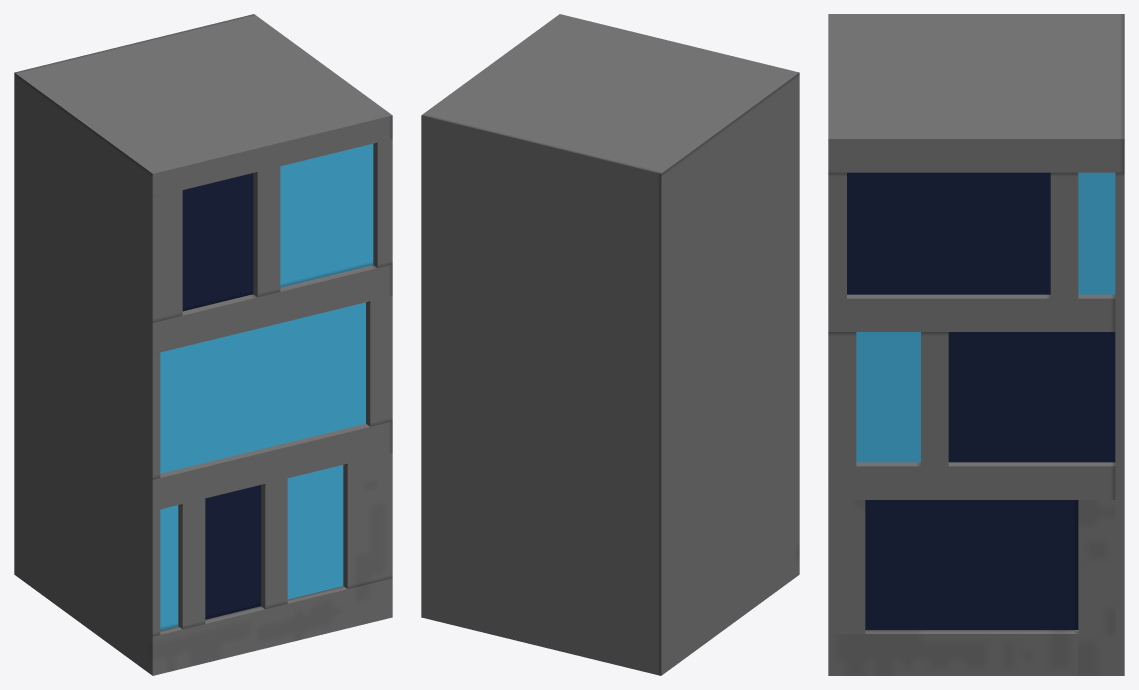
Rendered from PIĘTRO_2_BUDYNEK.dae.
3 views of the same model, side by side, from view 1: azimuth 30°, elevation 25°; view 2: azimuth 150°, elevation 25°; view 3: azimuth 270°, elevation 25° (orthographic). The views are drawn at different scales.
Visible parts, largest first — view 1: Content; view 2: Content; view 3: Content.
Boxes of the visible parts, left/top/right/bottom form: Content: left=14, top=14, right=392, bottom=675; Content: left=421, top=14, right=799, bottom=675; Content: left=828, top=14, right=1124, bottom=675.
Bounding box in the file's own units: 32 × 64 × 32.
Materials: 1 (1 with a texture image).
